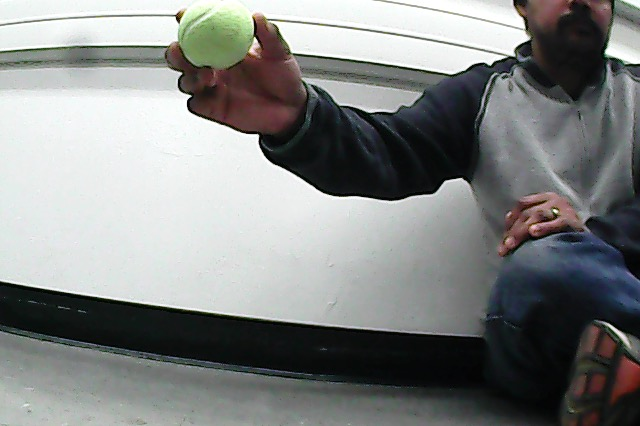ball: (176, 1, 257, 73)
